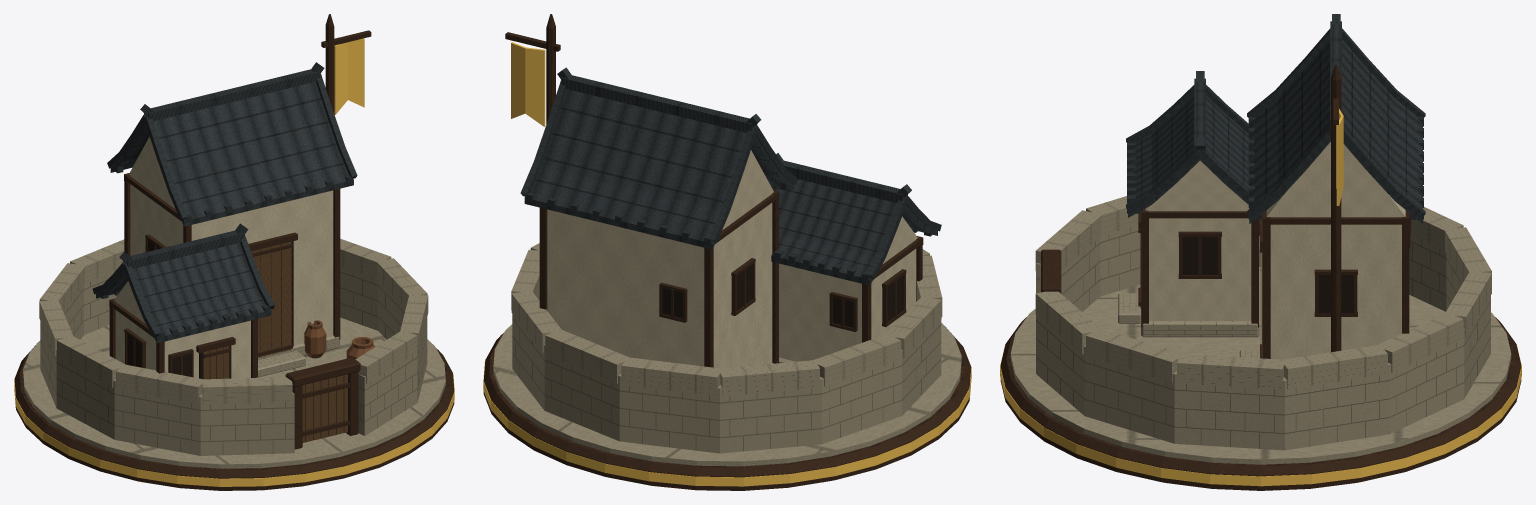
File: tk-village-orange.fbx
The picture shows the model from 3 angles, left to right: view 1: azimuth 30°, elevation 25°; view 2: azimuth 150°, elevation 25°; view 3: azimuth 270°, elevation 25°; orthographic projection. The views are drawn at different scales.
Visible parts, largest first — view 1: tk-village-orange; view 2: tk-village-orange; view 3: tk-village-orange.
Part boxes in pixels (x1,y1,x2,y2): tk-village-orange: (14,14,454,490); tk-village-orange: (483,14,971,490); tk-village-orange: (1000,14,1521,490).
Size of the model in its own units: 0.013 by 0.0108 by 0.013.
Materials: 2 (1 with a texture image).
